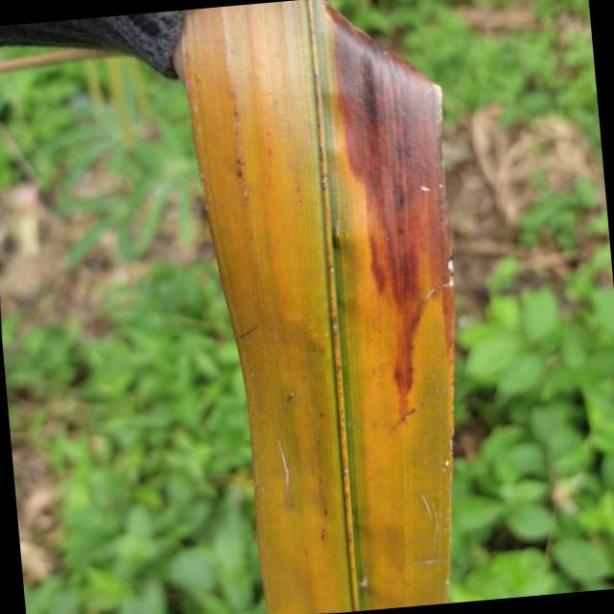Megnesium: (192, 0, 454, 614)
